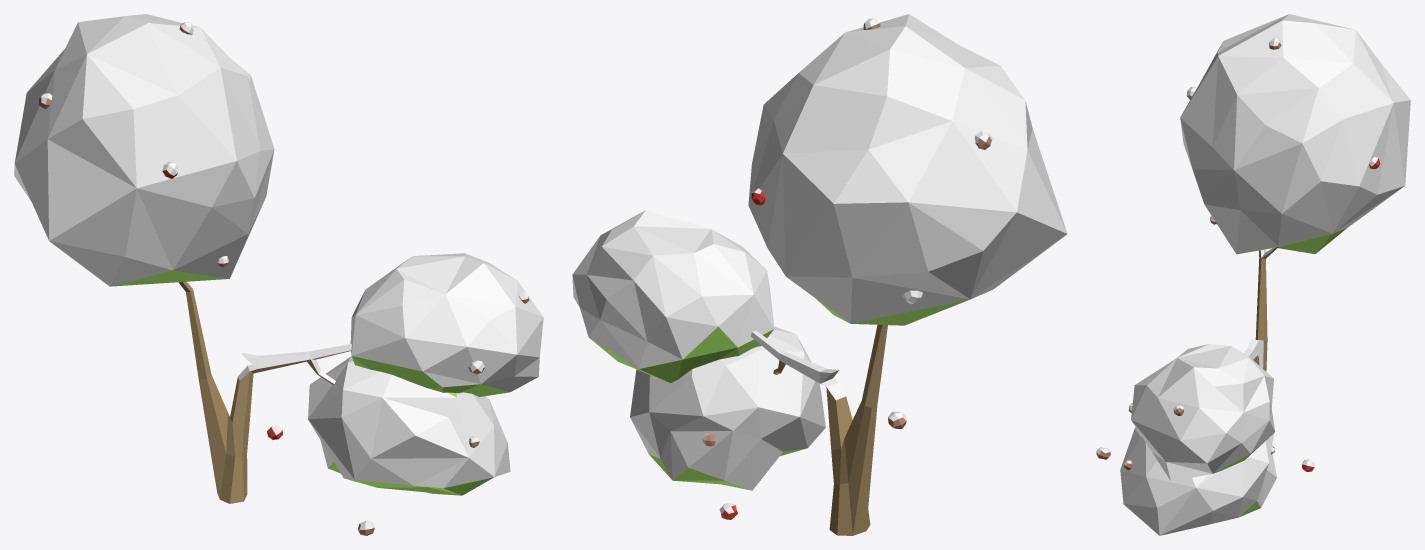
The model's file is Apple_Tree_Apples_crk_m_Snow_04_LOD.fbx.
3 renders of one model, left to right at view 1: azimuth 30°, elevation 25°; view 2: azimuth 150°, elevation 25°; view 3: azimuth 270°, elevation 25°, orthographic. The views are drawn at different scales.
Parts seen in each view (by area): view 1: Apple_Tree_Apples_crk_m_Snow_04_LOD0; view 2: Apple_Tree_Apples_crk_m_Snow_04_LOD0; view 3: Apple_Tree_Apples_crk_m_Snow_04_LOD0.
Boxes of the visible parts, bbox=[...] form: Apple_Tree_Apples_crk_m_Snow_04_LOD0: bbox=[14, 14, 543, 535]; Apple_Tree_Apples_crk_m_Snow_04_LOD0: bbox=[572, 14, 1067, 535]; Apple_Tree_Apples_crk_m_Snow_04_LOD0: bbox=[1096, 14, 1410, 535].
Size of what is drawn, in the model's own units: 869 by 869 by 605.
